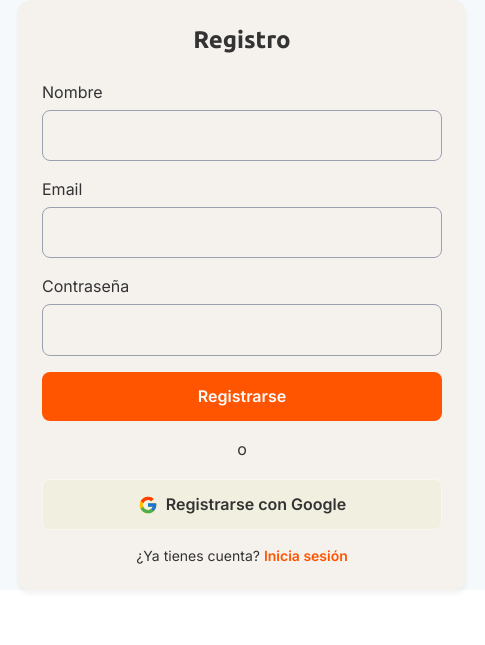
Test: RegisterForm › handles registration error
This screenshot has width=485, height=645.
Step 1. Type "Test User" into the field labelled "Nombre" → (242, 135), box [42,110,442,161]
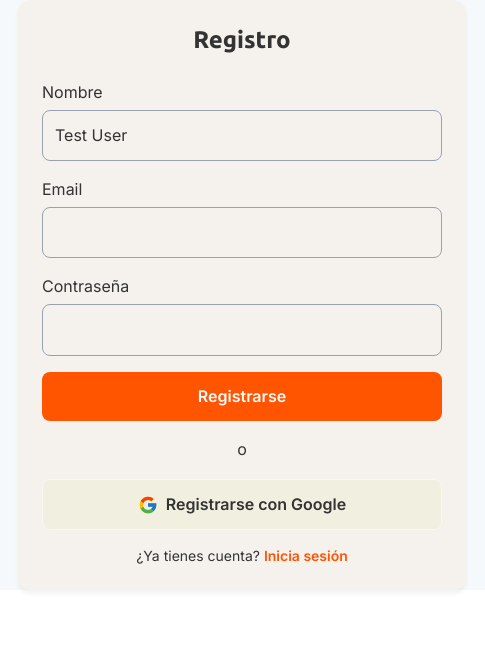
Step 2. Type "existing@example.com" into the field labelled "Email" → (242, 233), box [42,207,442,258]
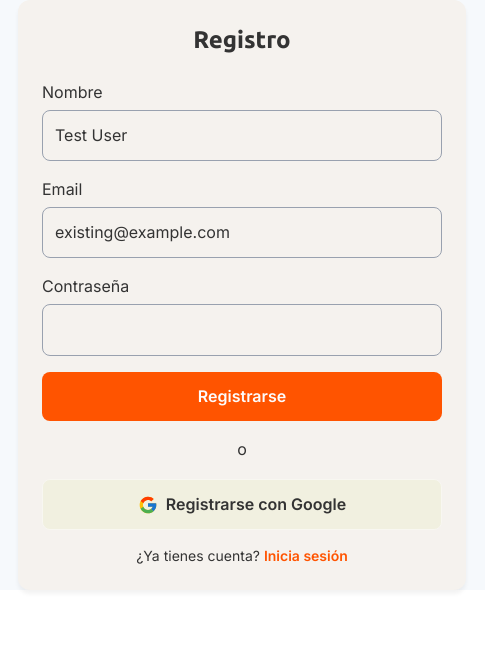
Step 3. Type "password123" into the password field labelled "Contraseña" → (242, 330), box [42,304,442,356]
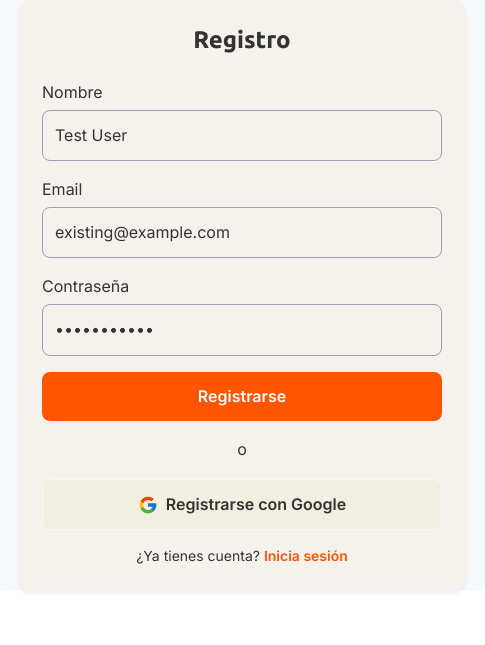
Step 4. Click the button "Registrarse" → (242, 396), box [42,372,442,421]
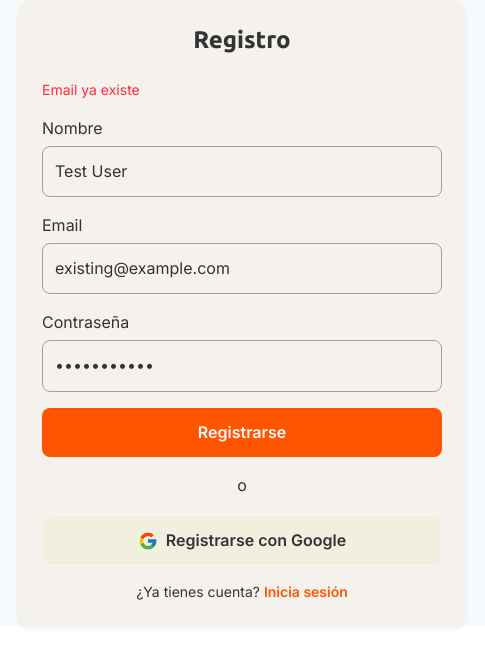
Check: the text "Email ya existe" is shown, box [42,81,140,98]
